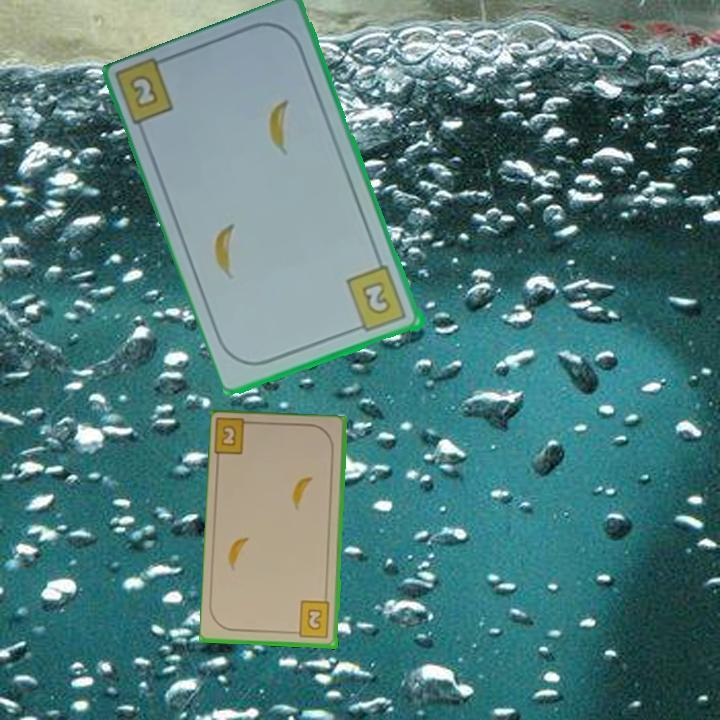2b: (343, 262, 410, 335), (213, 417, 259, 459), (290, 598, 333, 641), (126, 71, 162, 112)
